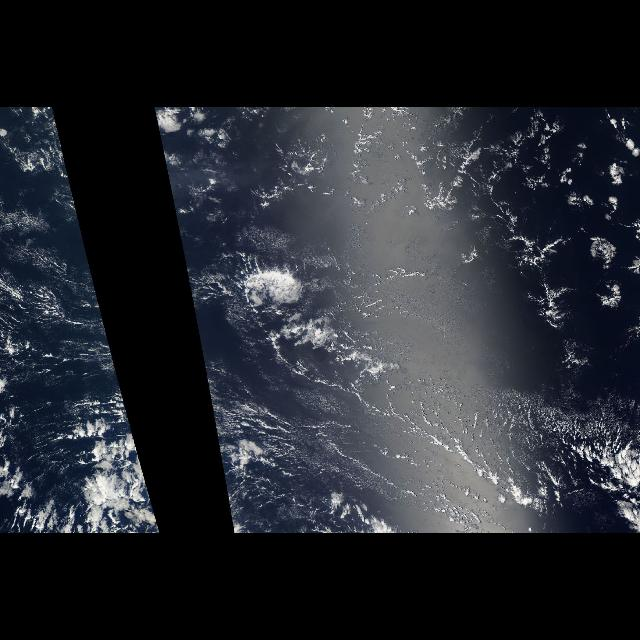Flower: (484, 118, 640, 330)
Gravel: (272, 346, 600, 512)
Sugar: (199, 334, 635, 520), (1, 178, 157, 520), (170, 134, 384, 264)
